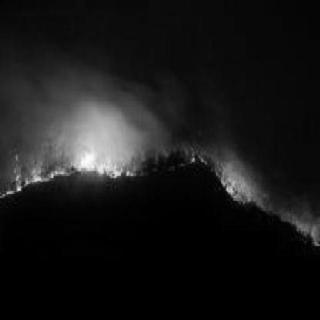Fire: (288, 206, 316, 242)
